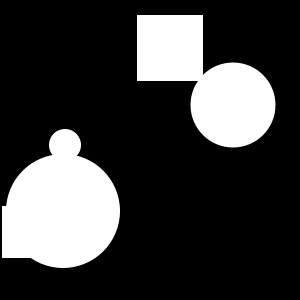circle: (137, 15, 203, 81), (2, 206, 54, 258)
rectangle: (6, 154, 120, 268), (190, 62, 275, 148), (49, 129, 81, 161)
